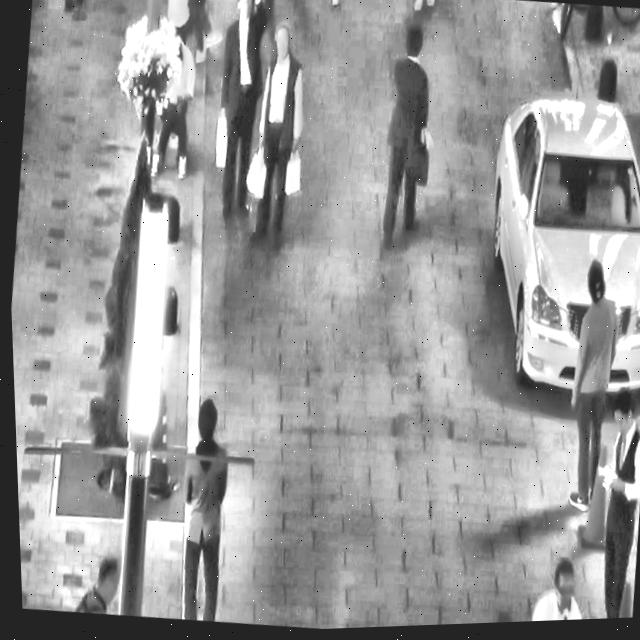light_vehicle: (462, 71, 640, 413)
